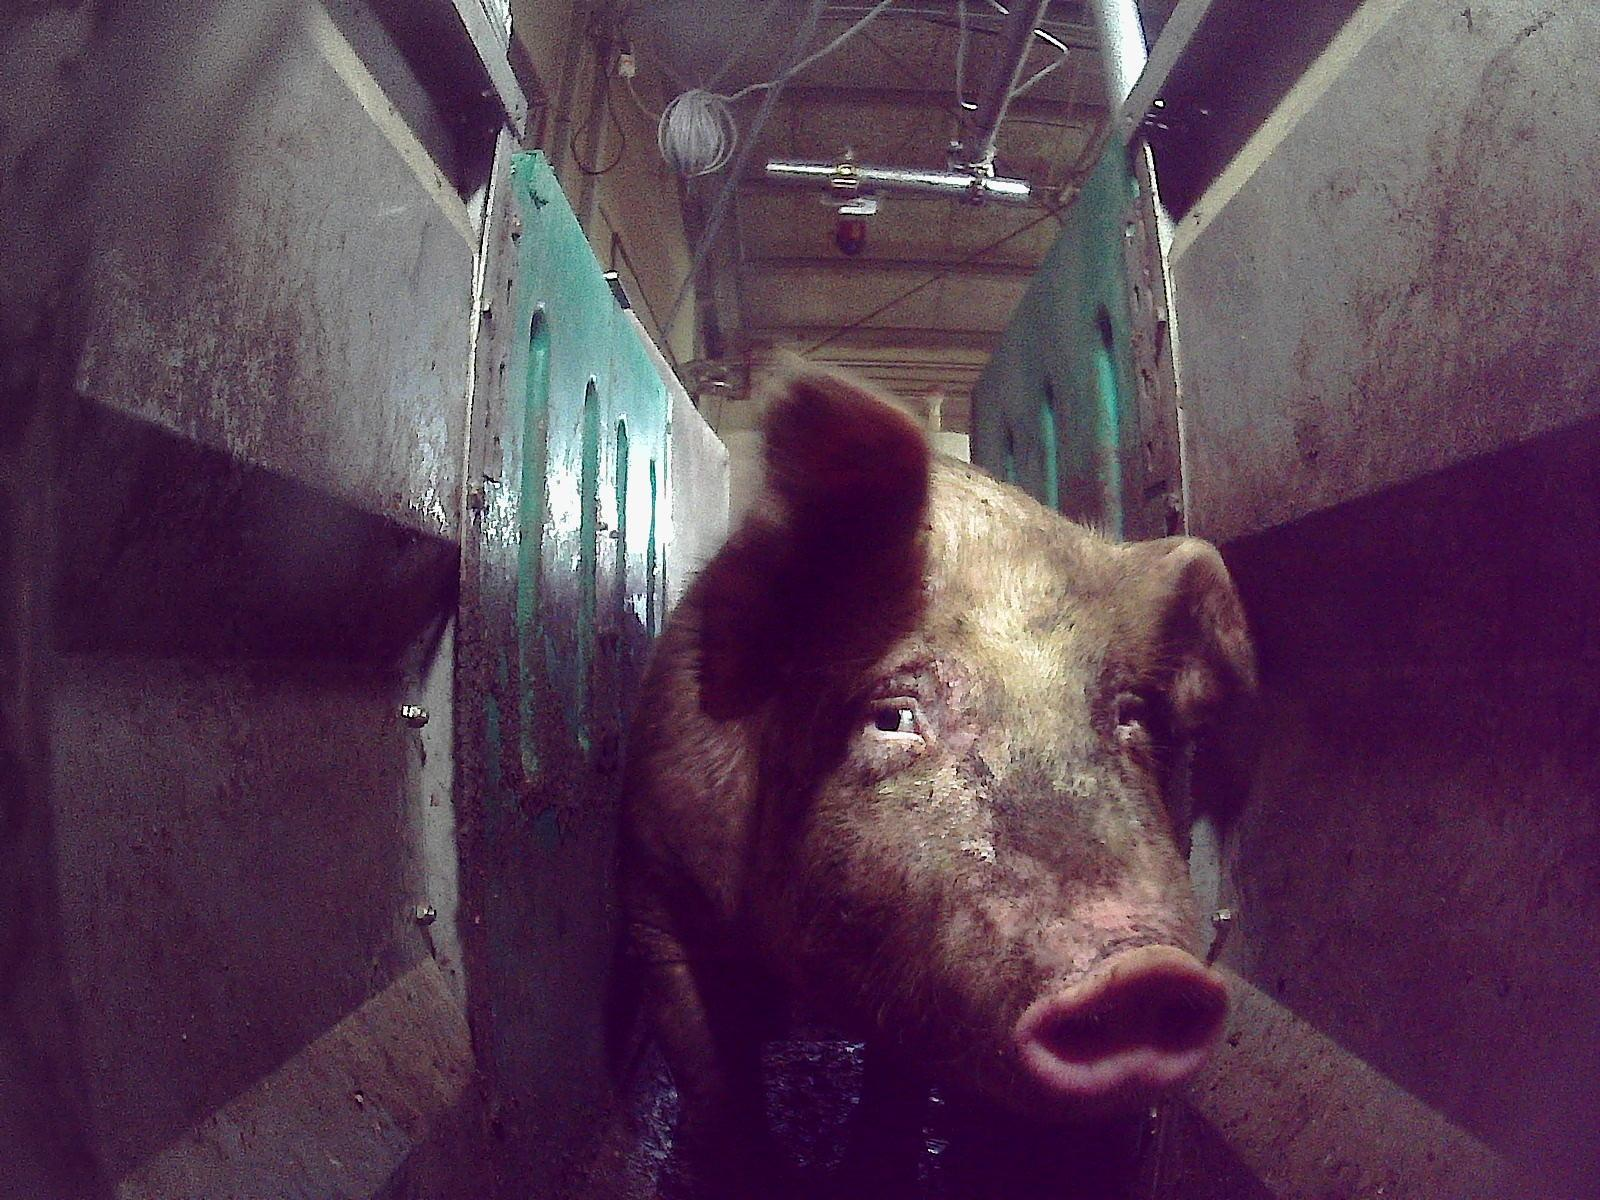Face: (773, 506, 1229, 1108)
